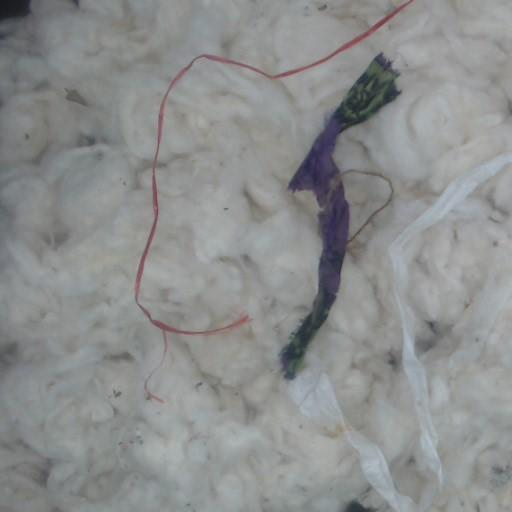cloth: (281, 55, 399, 378)
cotton: (0, 0, 511, 511)
thread: (135, 0, 415, 334), (389, 152, 511, 489), (288, 367, 418, 511), (482, 284, 511, 332), (70, 420, 80, 426)
